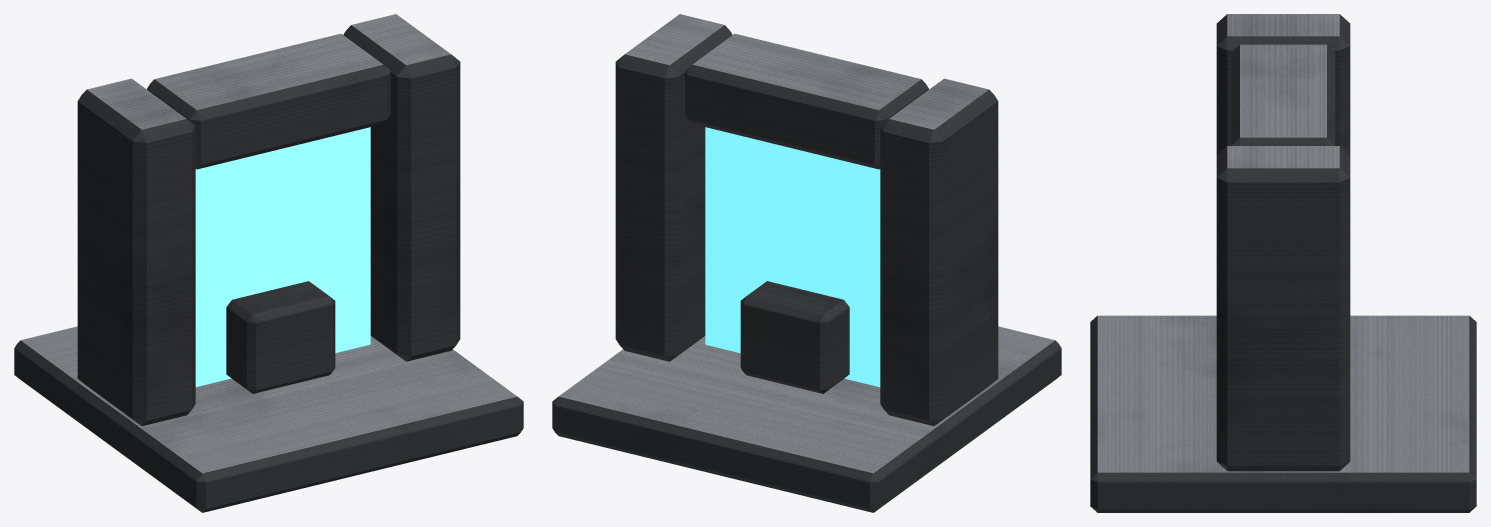
File: R4X_StructuralScanner_LOD1.glb
The picture shows the model from 3 angles, left to right: view 1: azimuth 30°, elevation 25°; view 2: azimuth 150°, elevation 25°; view 3: azimuth 270°, elevation 25°; orthographic projection. The views are drawn at different scales.
Parts seen in each view (by area): view 1: R4X_StructuralScanner_LOD1; view 2: R4X_StructuralScanner_LOD1; view 3: R4X_StructuralScanner_LOD1.
Boxes of the visible parts, x1=… form: R4X_StructuralScanner_LOD1: x1=14, y1=14, x2=523, y2=512; R4X_StructuralScanner_LOD1: x1=552, y1=14, x2=1061, y2=512; R4X_StructuralScanner_LOD1: x1=1090, y1=14, x2=1476, y2=512.
Size of the model in its own units: 0.52 by 0.51 by 0.52.
Materials: 3 (2 with a texture image).
